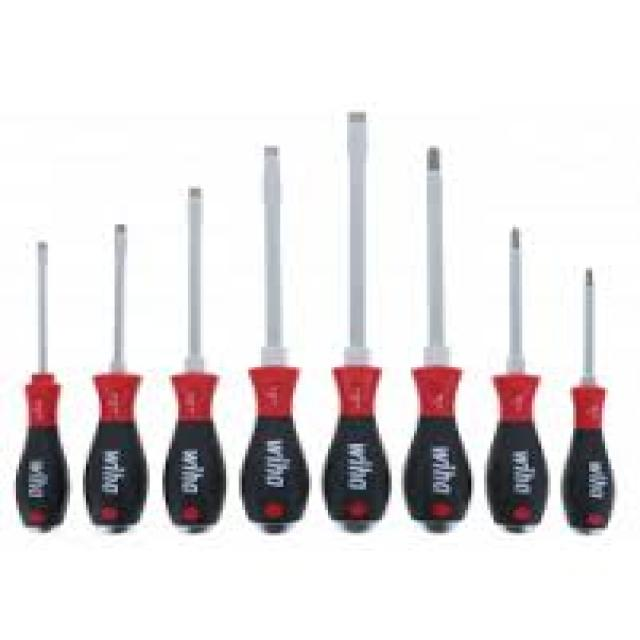screw driver: (461, 199, 571, 550), (144, 173, 250, 530), (308, 93, 389, 538), (5, 230, 94, 543)
